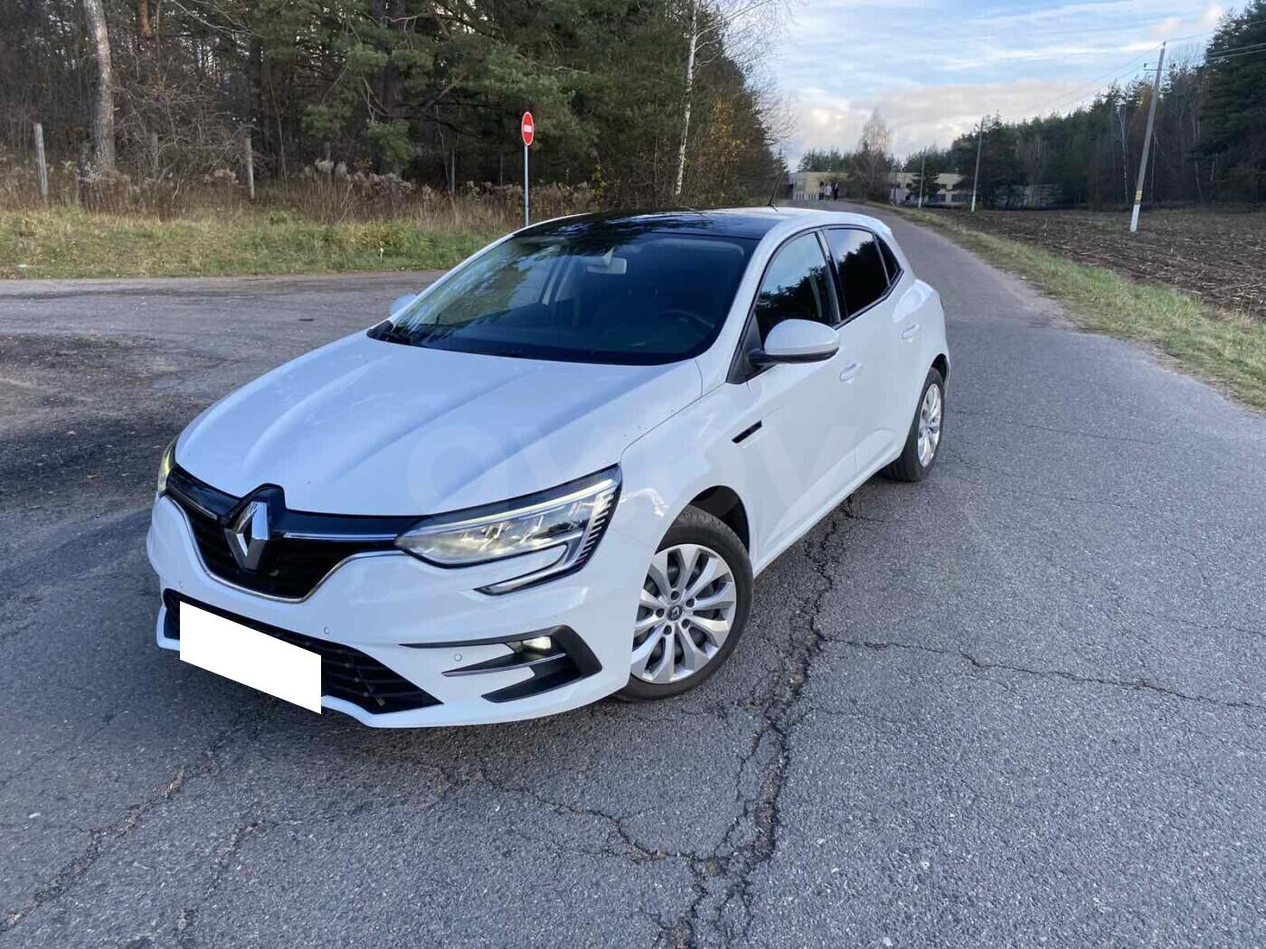Megane_2020: (143, 195, 959, 741)
